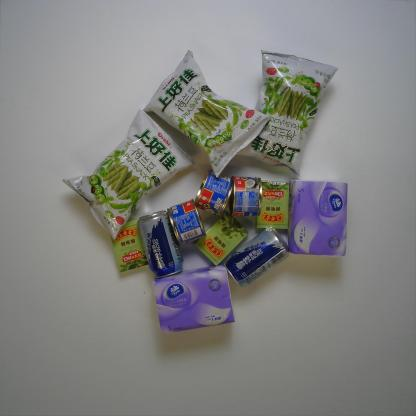Alcohol: (223, 226, 290, 290), (136, 209, 186, 279)
Candy: (191, 214, 251, 267), (108, 218, 148, 274), (255, 180, 290, 230)
Canned Food: (165, 198, 208, 246), (193, 167, 232, 219), (231, 174, 262, 220)
Puffed Food: (62, 109, 198, 242), (143, 49, 268, 177), (238, 48, 338, 181)
Tissue: (150, 265, 235, 338), (288, 180, 350, 256)
